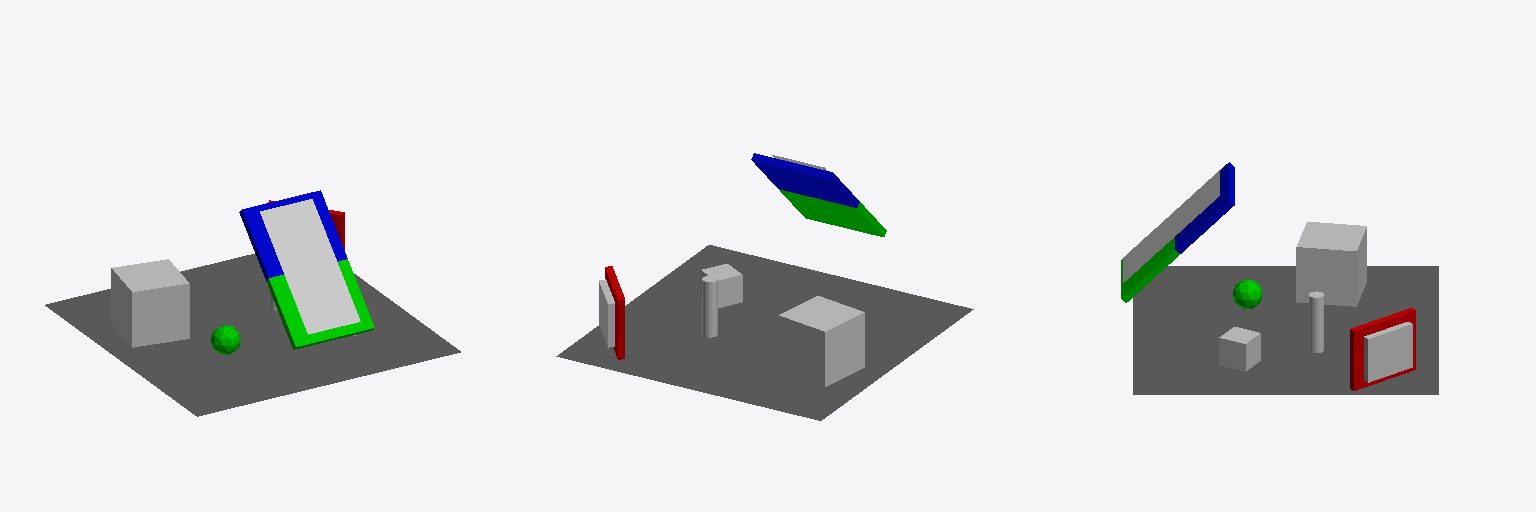
3 views of the same model, side by side, from view 1: azimuth 30°, elevation 25°; view 2: azimuth 150°, elevation 25°; view 3: azimuth 270°, elevation 25° (orthographic).
Visible parts, largest first — view 1: Floor, Plane, Gold_Cube.002, Cube, Cube.001, Emerald; view 2: Floor, Gold_Cube.002, Cube.001, Cube, Gold_Cube.001, Pillar, Cube.002, Cube.003; view 3: Floor, Gold_Cube.002, Plane, Cube.003, Cube.002, Cube.001, Gold_Cube.001, Cube, Pillar, Emerald.
Part boxes in pixels (x1,y1,x2,y2): Floor: (45,254,460,416); Plane: (260,199,360,334); Gold_Cube.002: (111,259,189,347); Cube: (266,259,374,349); Cube.001: (239,190,347,280); Emerald: (211,325,240,354); Floor: (556,245,973,420); Gold_Cube.002: (778,296,864,386); Cube.001: (751,153,859,207); Cube: (779,189,886,236); Gold_Cube.001: (701,264,742,307); Pillar: (702,276,717,337); Cube.002: (605,266,624,359); Cube.003: (599,279,614,347); Floor: (1133,266,1438,394); Gold_Cube.002: (1296,222,1366,306); Plane: (1123,170,1219,282); Cube.003: (1364,322,1412,382); Cube.002: (1350,308,1415,390); Cube.001: (1175,162,1234,253); Gold_Cube.001: (1219,327,1260,371); Cube: (1121,237,1179,302); Pillar: (1309,291,1323,352); Emerald: (1233,280,1262,308).
Size of the model in its own units: 20 by 10.78 by 20.78.